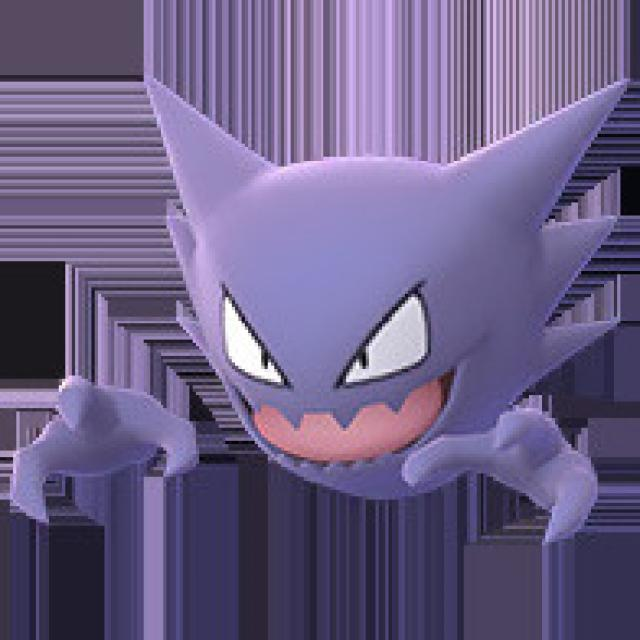Haunter: (135, 68, 617, 524)
